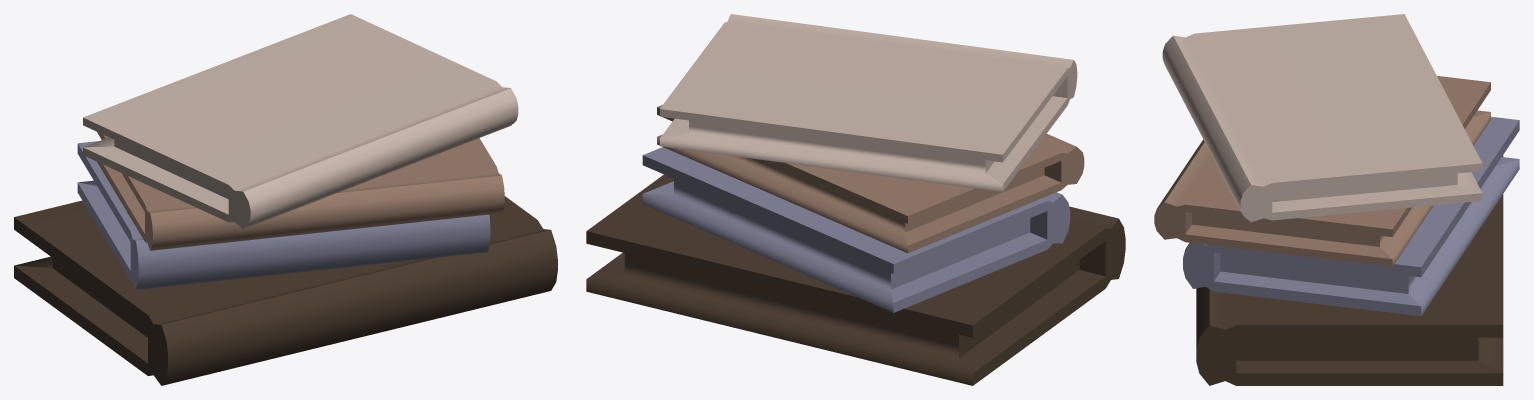
The model's file is colored set book4 bedroom.fbx.
3 views of the same model, side by side, from view 1: azimuth 30°, elevation 25°; view 2: azimuth 150°, elevation 25°; view 3: azimuth 270°, elevation 25° (orthographic).
Visible parts, largest first — view 1: pCube4, pCube1, pCube3, pCube2; view 2: pCube4, pCube1, pCube2, pCube3; view 3: pCube4, pCube1, pCube2, pCube3.
Boxes of the visible parts, x1,y1,x2,y2 form: pCube4: (83, 14, 518, 228); pCube1: (14, 196, 557, 385); pCube3: (97, 132, 504, 250); pCube2: (77, 141, 490, 289); pCube4: (660, 14, 1077, 191); pCube1: (586, 174, 1125, 385); pCube2: (642, 147, 1070, 312); pCube3: (657, 105, 1084, 253); pCube4: (1162, 14, 1482, 222); pCube1: (1196, 155, 1503, 385); pCube2: (1183, 116, 1519, 316); pCube3: (1154, 76, 1490, 266).
Size of the model in its own units: 0.3103 by 0.1462 by 0.2526.
